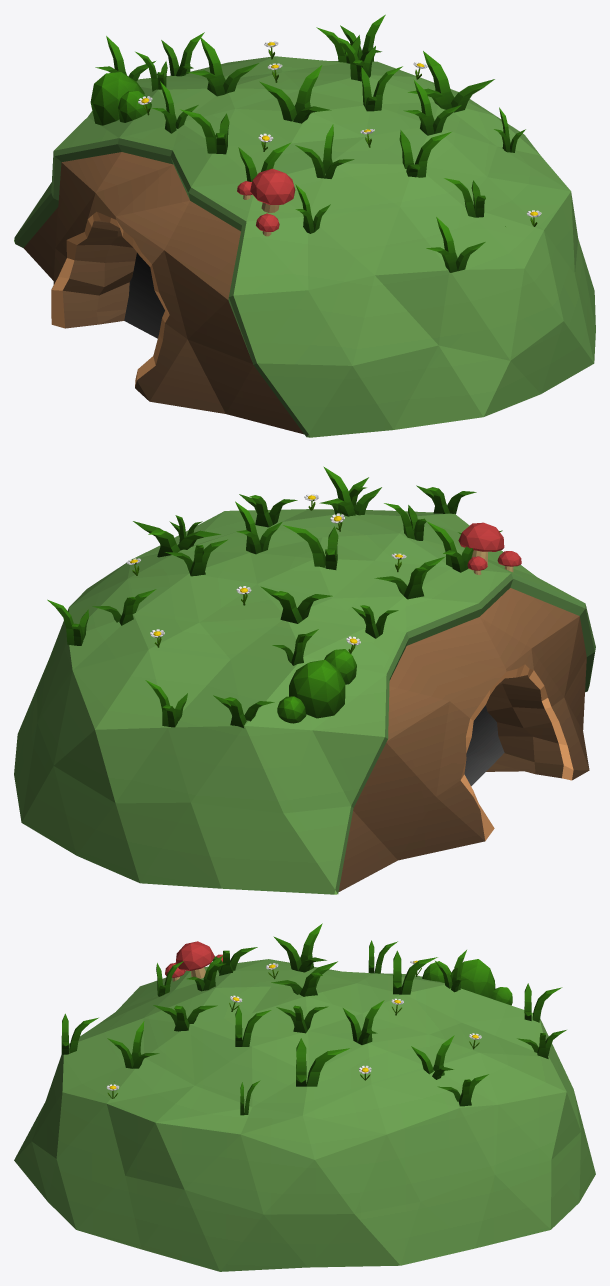
The model's file is Den.fbx.
3 views of the same model, one above another, from view 1: azimuth 30°, elevation 25°; view 2: azimuth 150°, elevation 25°; view 3: azimuth 270°, elevation 25° (orthographic). The views are drawn at different scales.
Visible parts, largest first — view 1: Fox_Den; view 2: Fox_Den; view 3: Fox_Den.
Boxes of the visible parts, left/top/right/bottom form: Fox_Den: left=14, top=14, right=595, bottom=437; Fox_Den: left=14, top=466, right=595, bottom=894; Fox_Den: left=14, top=923, right=595, bottom=1271.
Bounding box in the file's own units: 1262 × 630 × 1601.
